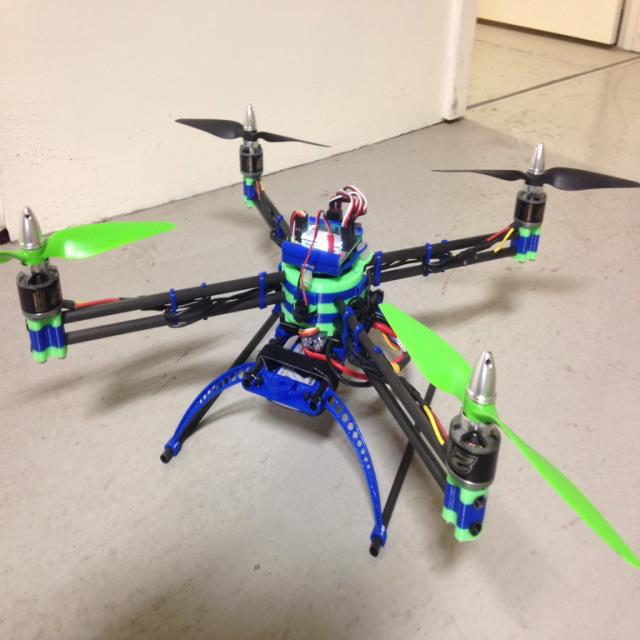drone: (2, 88, 640, 580)
